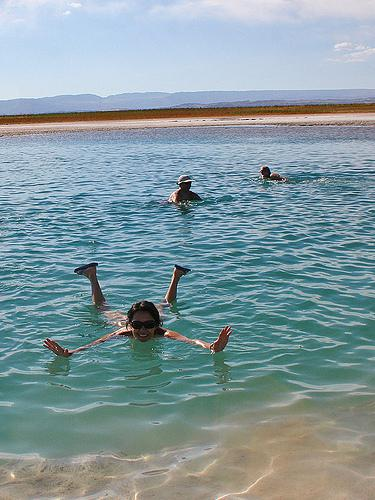swimmer: (41, 256, 230, 378), (168, 171, 203, 217), (256, 162, 290, 185)
